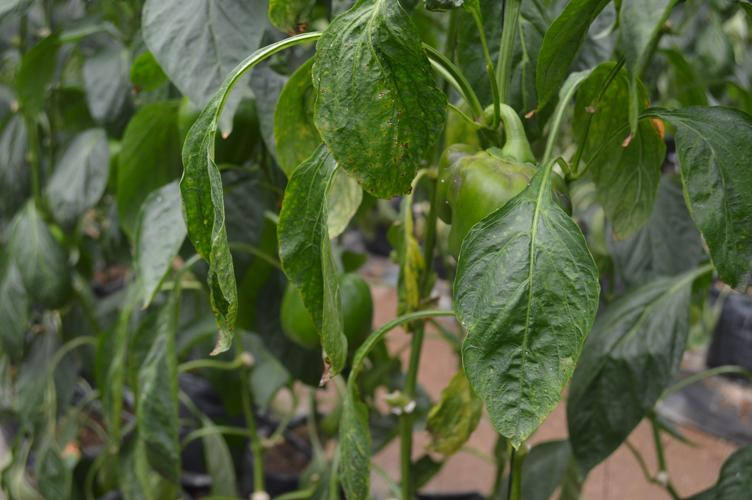BellPepper: (433, 145, 566, 263), (271, 276, 366, 354), (183, 93, 259, 169)
